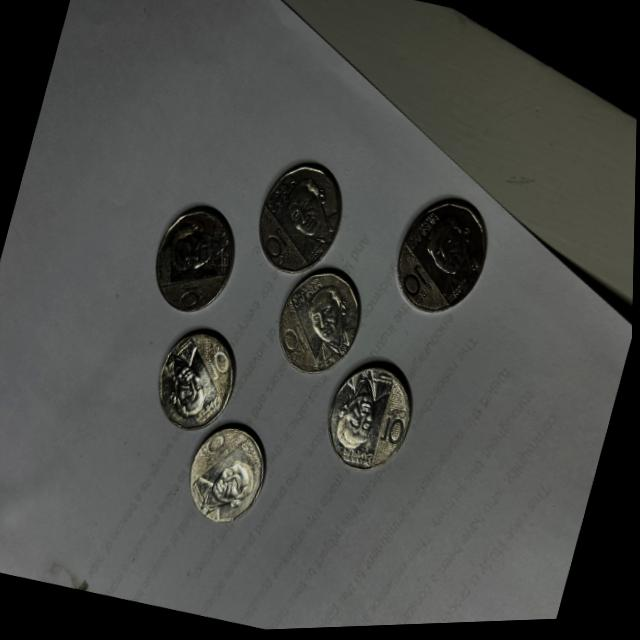10_New_Front: (271, 318, 327, 373), (397, 257, 445, 314), (372, 399, 418, 455), (190, 338, 239, 388), (198, 425, 242, 477), (256, 220, 302, 269), (174, 275, 216, 314)
